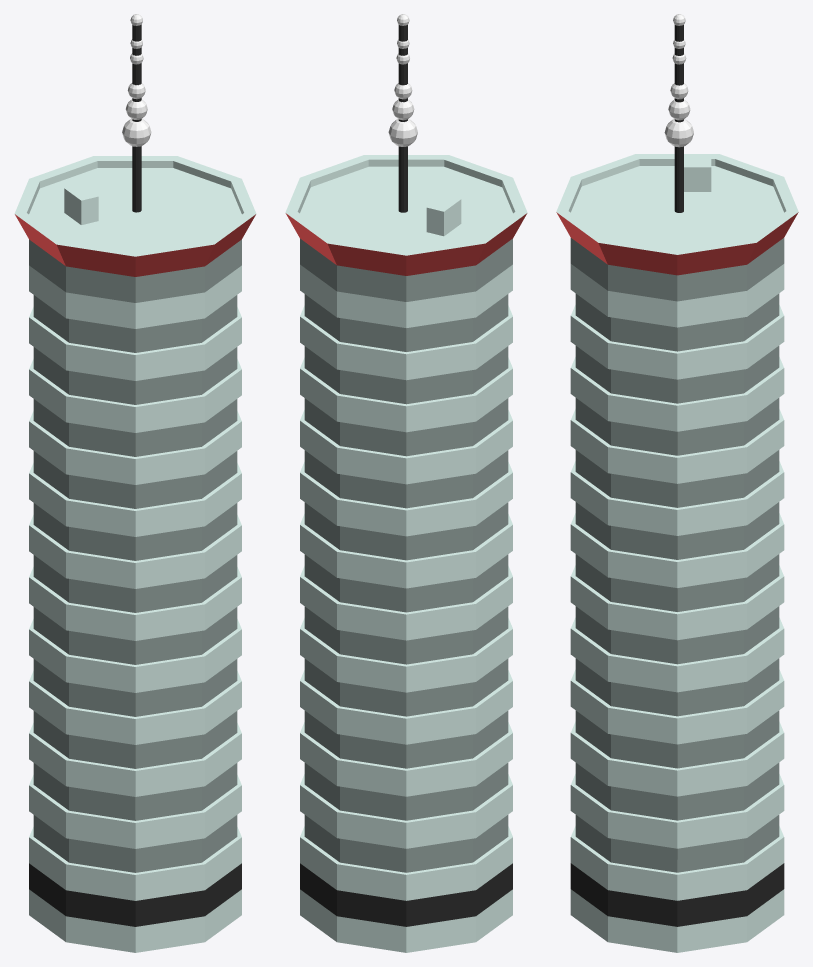
Rendered from radiotower.fbx.
3 renders of one model, left to right at view 1: azimuth 30°, elevation 25°; view 2: azimuth 150°, elevation 25°; view 3: azimuth 270°, elevation 25°, orthographic.
Visible parts, largest first — view 1: radio; view 2: radio; view 3: radio.
Boxes of the visible parts, bbox=[...] form: radio: bbox=[14, 14, 256, 952]; radio: bbox=[285, 14, 527, 952]; radio: bbox=[556, 14, 798, 952].
Bounding box in the file's own units: 1037 × 4279 × 1053.
